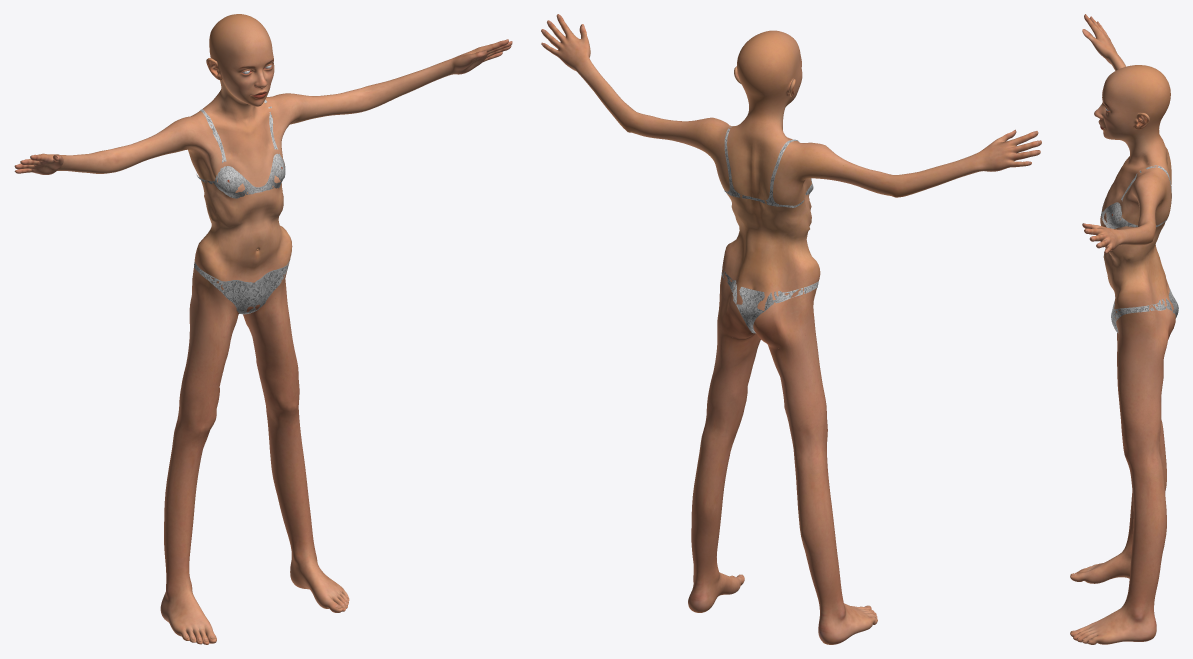
3 renders of one model, left to right at view 1: azimuth 30°, elevation 25°; view 2: azimuth 150°, elevation 25°; view 3: azimuth 270°, elevation 25°, orthographic. The views are drawn at different scales.
Visible parts, largest first — view 1: cm_antonia, panties, bra; view 2: cm_antonia, panties, bra; view 3: cm_antonia, bra, panties.
Part boxes in pixels (x1,y1,x2,y2): cm_antonia: (14,14,512,644); panties: (194,259,290,314); bra: (196,99,285,198); cm_antonia: (541,14,1041,644); panties: (721,269,818,333); bra: (724,126,813,207); cm_antonia: (1070,14,1175,644); bra: (1101,165,1171,228); panties: (1111,287,1178,333).
Bounding box in the file's own units: 1.55 × 1.75 × 0.3174.
12 materials, 9 textured.
